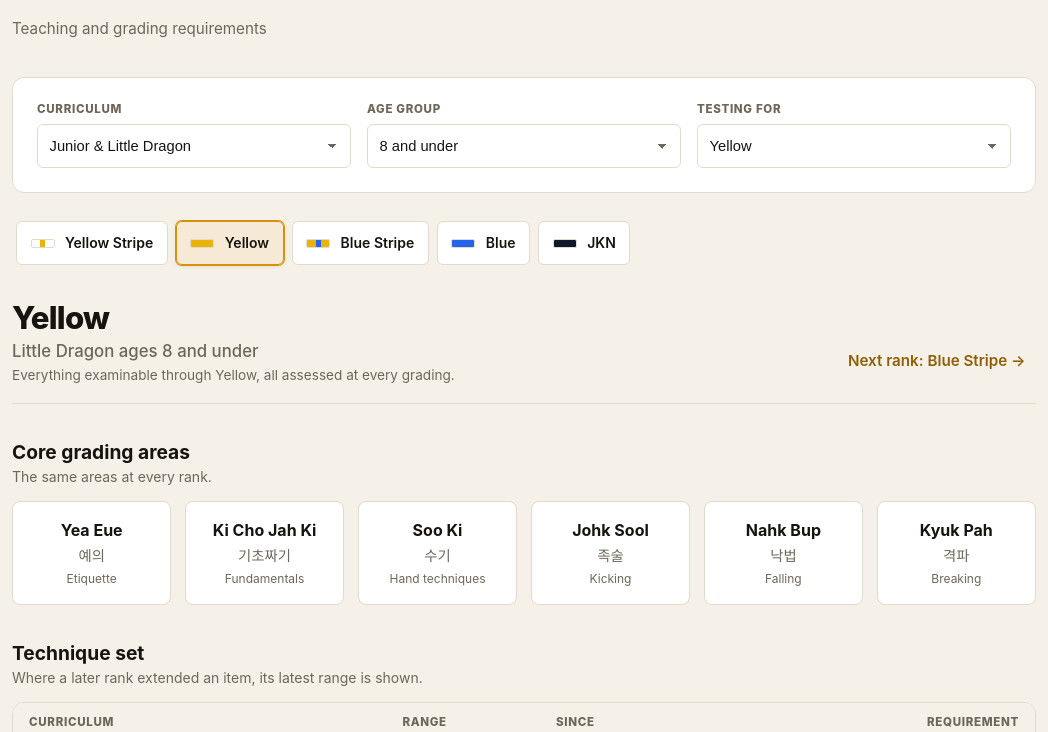
Test: SyllabusScreen › shows carried-forward provenance and part notation for the Blue Stripe worked example
Click the button "Blue Stripe".
click(360, 243)  # box [292,221,429,265]
(page scrolled)
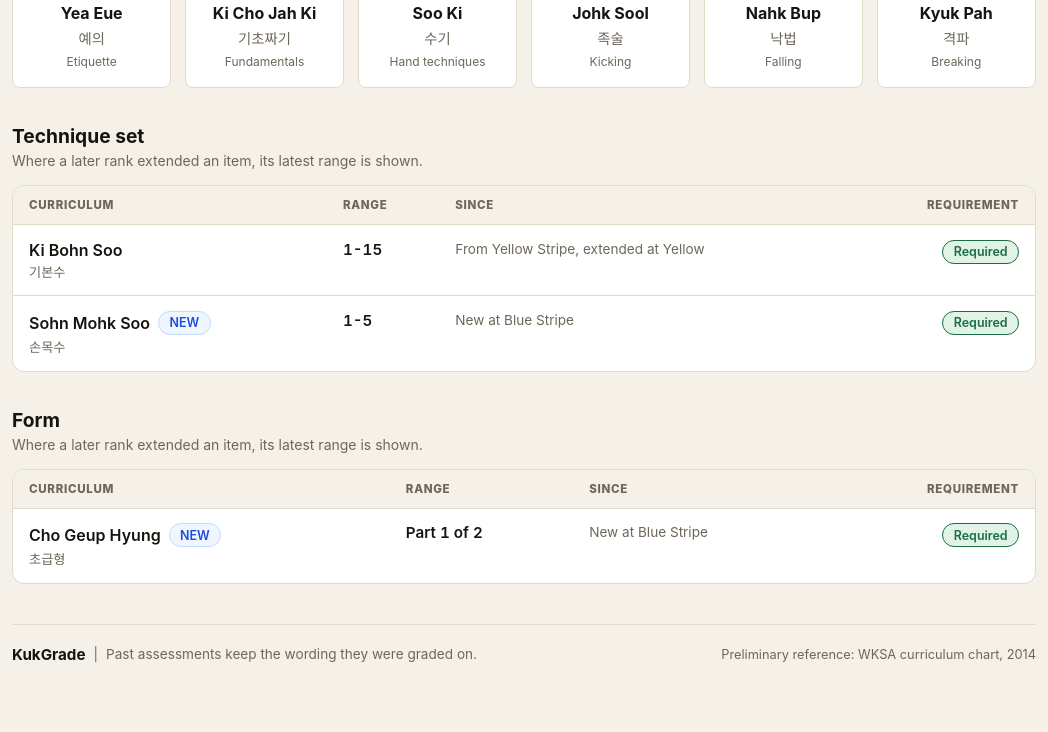
Expected: the text "1-15" is shown, [343,240,382,259]
Expected: the text "From Yellow Stripe, extended at Yellow" is shown, [455,241,705,257]
Expected: the text "Sohn Mohk Soo" is shown, [29,313,150,333]
